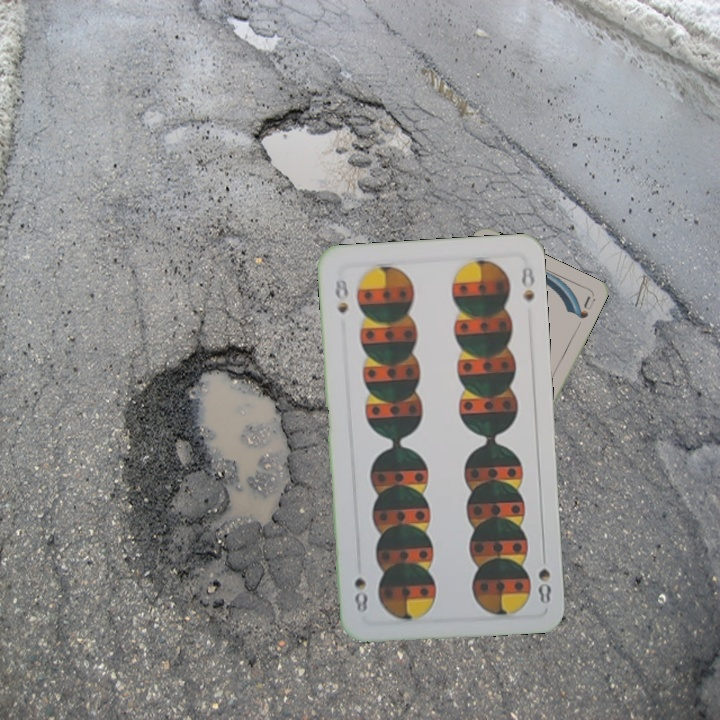S8: (534, 564, 555, 607), (331, 275, 351, 316)
